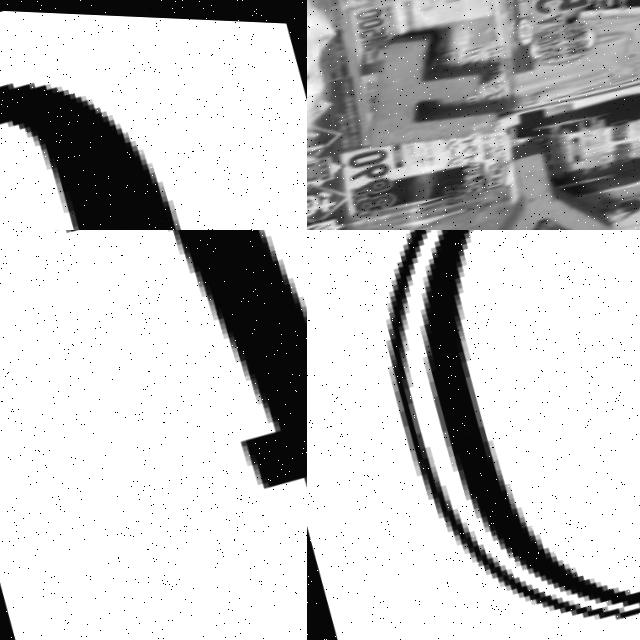0: (310, 230, 640, 640), (0, 32, 297, 230)
F: (0, 230, 307, 640), (346, 7, 517, 165)
Y: (459, 119, 623, 230)
